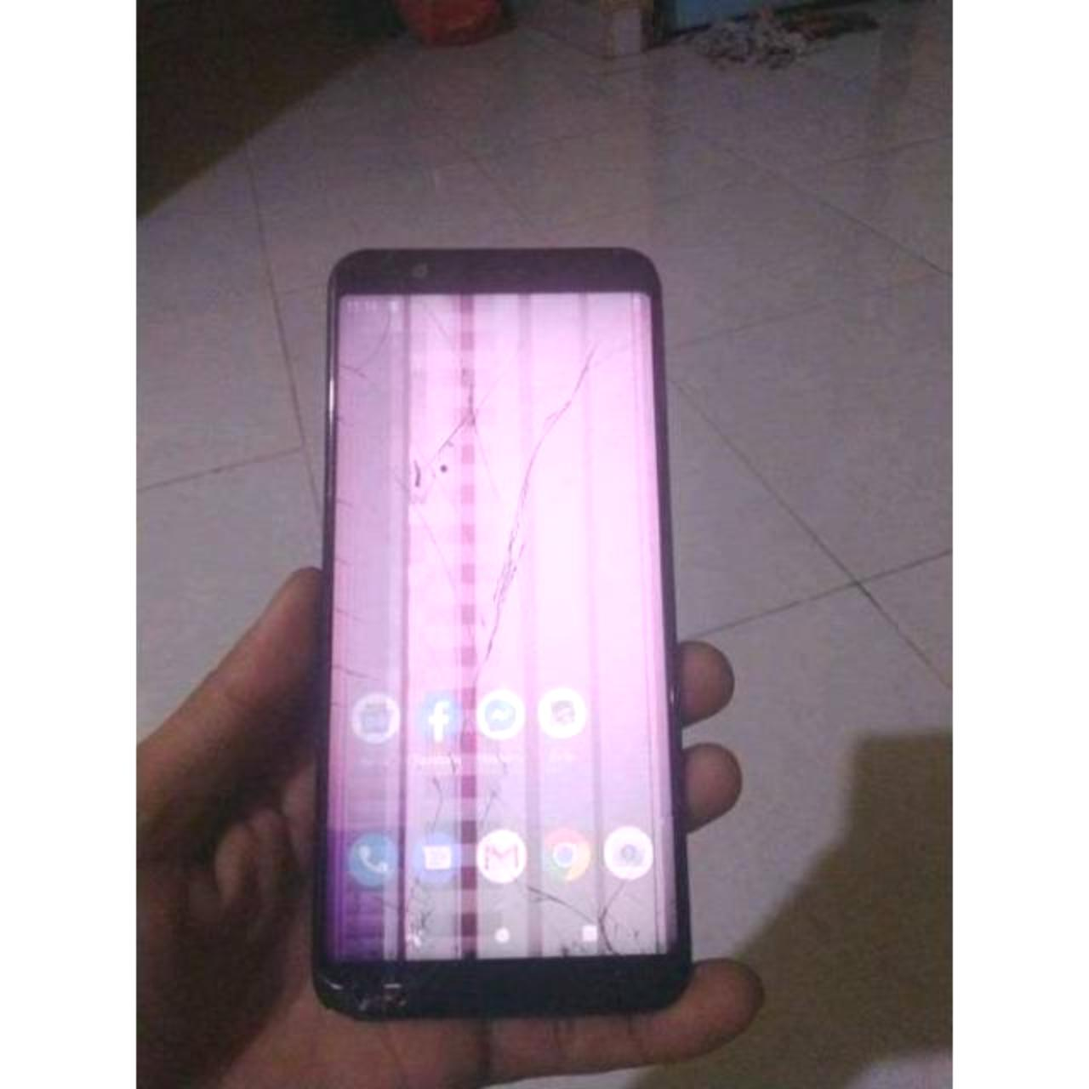phone: (328, 253, 698, 998)
